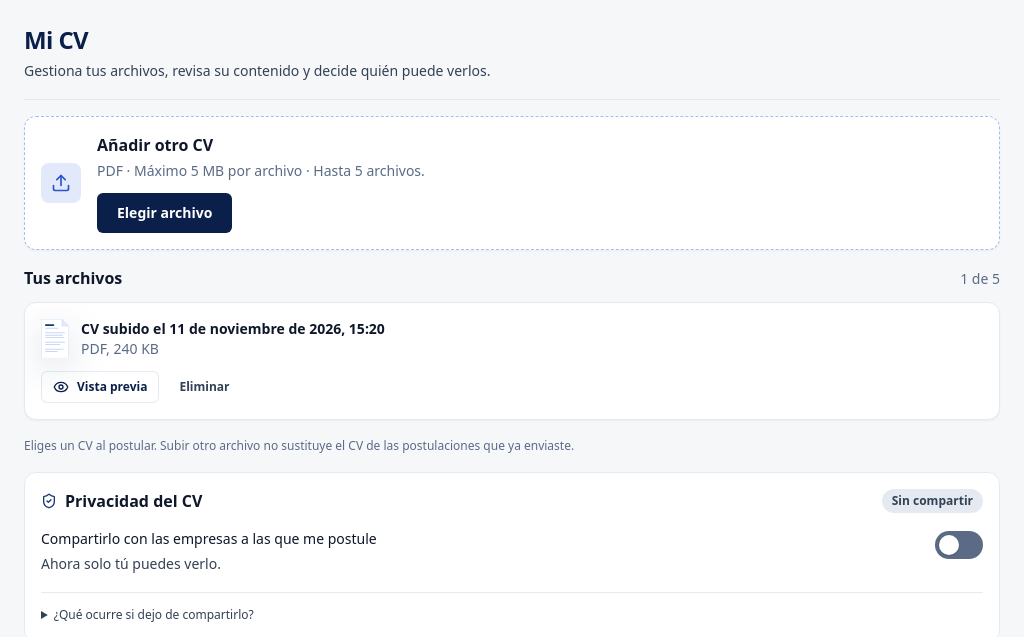
Test case: CvPage › un CV en uso permanece en la lista y conserva su vista previa al rechazar el borrado
Click the button with aria-label "Vista previa de CV subido el".
click(100, 387)  # box [41, 371, 159, 403]
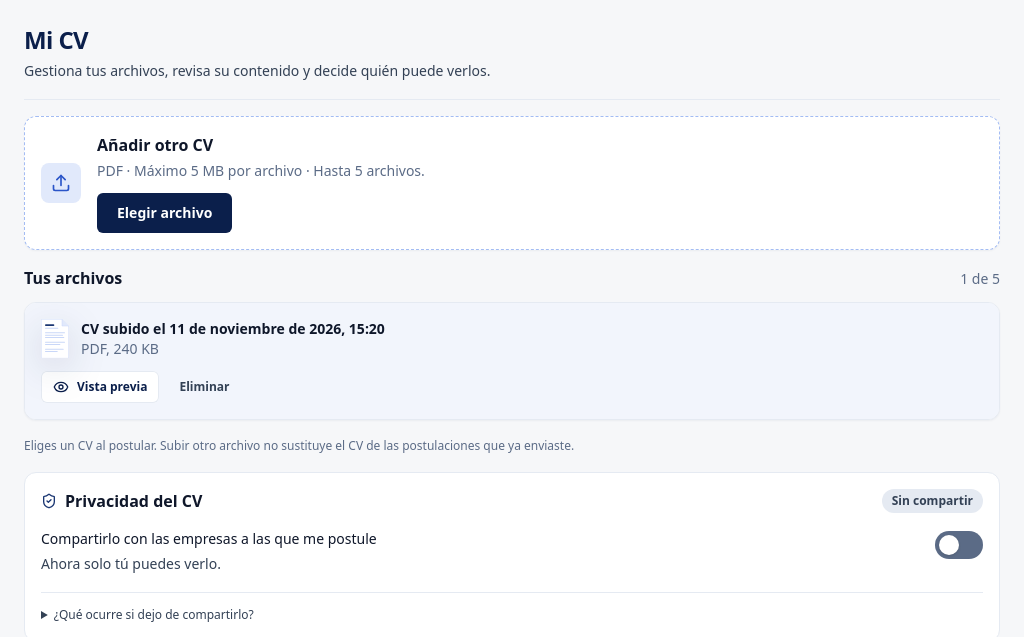
Click the button with aria-label "Eliminar CV subido el".
click(204, 387)  # box [167, 371, 242, 403]
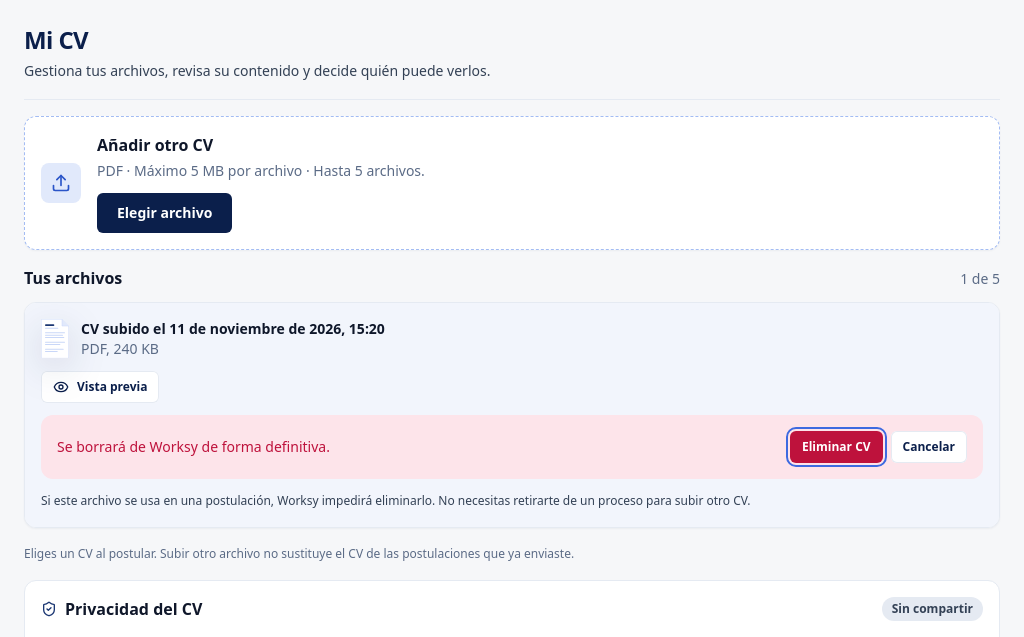
Click the button "Eliminar CV".
click(836, 447)  # box [790, 431, 883, 463]
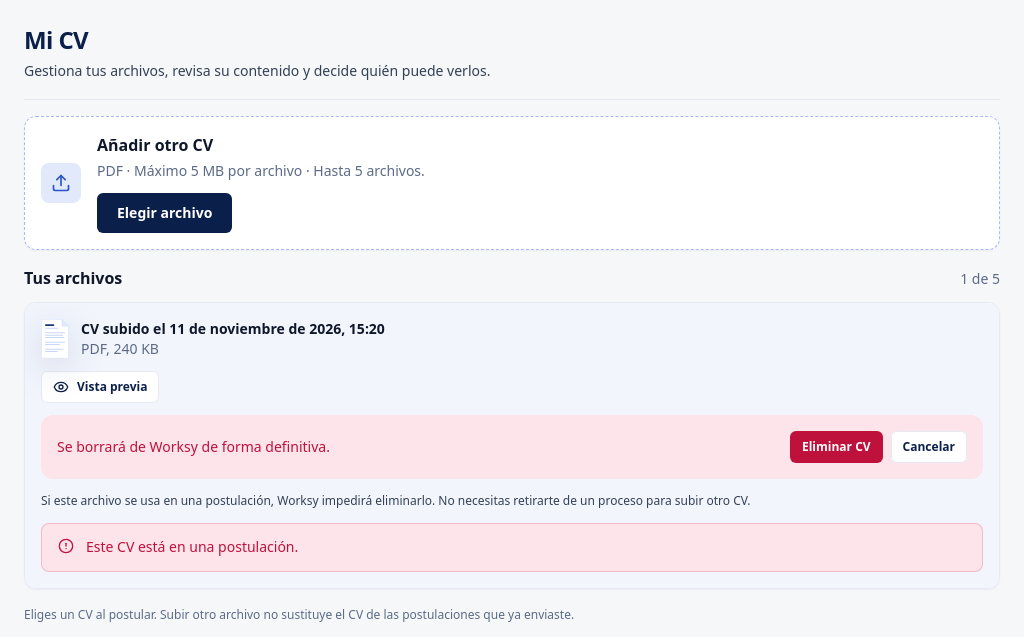
Expected: the text "1 de 5" is shown, [960, 269, 1000, 289]
Now the message shows "Este CV está en una postulación", box [86, 537, 298, 556]
